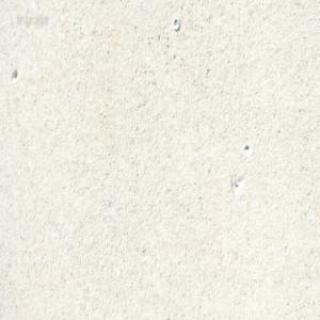Washertrack_idkeyframe: (171, 15, 179, 30)
